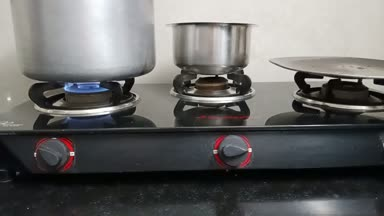flame_gas_off: (176, 69, 266, 169)
flame_gas_on: (19, 75, 143, 178)
